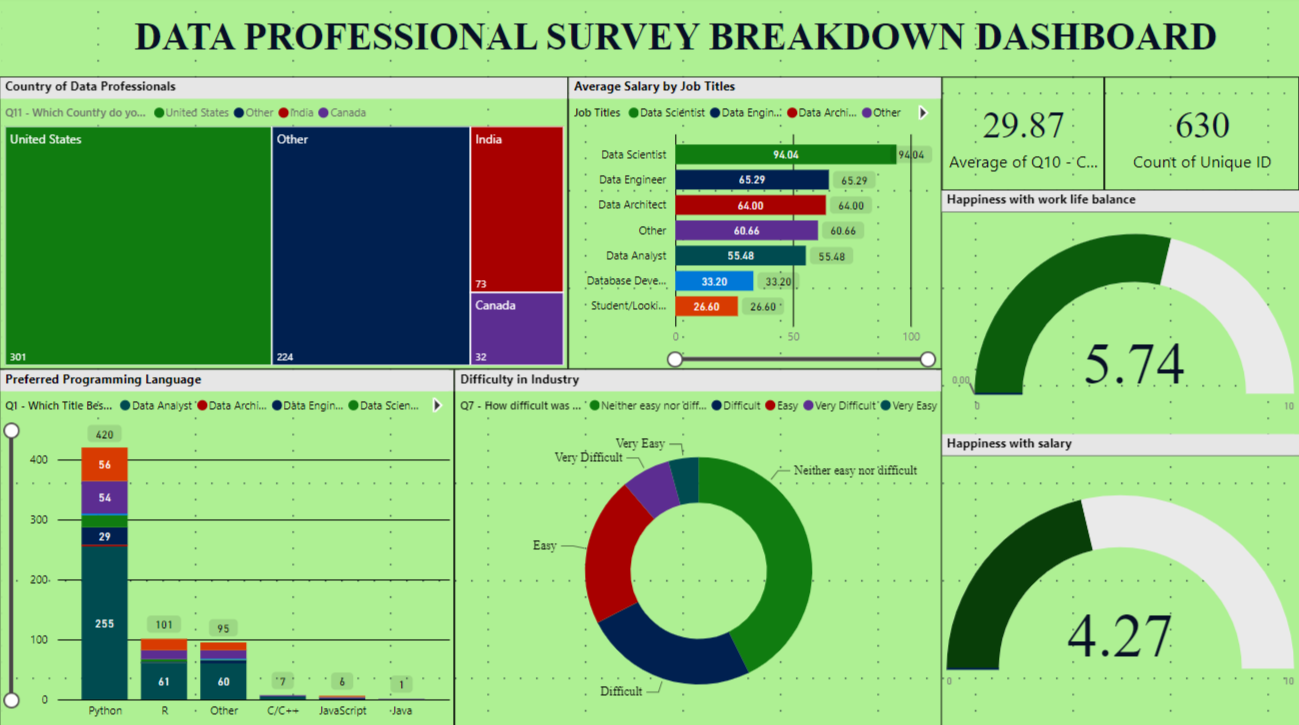

What the dashboard file says about the page in this screenshot:
{"tool":"powerbi","page":{"name":"Page 1","canvas":[1280,720],"ordinal":0},"visuals":[{"type":"textbox","box":[0,0,1280,80],"z":0},{"type":"card","fields":{"Values":["CountNonNull(Data Professional Survey.Unique ID)"]},"box":[1088,80,192,112],"z":1000},{"type":"card","fields":{"Values":["Avg(Data Professional Survey.Q10 - Current Age)"]},"box":[928,80,160,112],"z":2000},{"type":"barChart","title":" Average Salary by Job Titles","fields":{"Category":["Data Professional Survey.Q1 - Which Title Best Fits your Current Role?.1"],"Y":["Avg(Data Professional Survey.Average Salary)"],"Series":["Data Professional Survey.Q1 - Which Title Best Fits your Current Role?.1"]},"box":[560,80,368,288],"z":3000},{"type":"columnChart","title":"Preferred Programming Language","fields":{"Category":["Data Professional Survey.Q5 - Favorite Programming Language.1"],"Y":["CountNonNull(Data Professional Survey.Unique ID)"],"Series":["Data Professional Survey.Q1 - Which Title Best Fits your Current Role?.1"]},"box":[0,368,448,352],"z":4000},{"type":"treemap","title":"Country of Data Professionals","fields":{"Group":["Data Professional Survey.Q11 - Which Country do you live in?.1"],"Values":["CountNonNull(Data Professional Survey.Q11 - Which Country do you live in?.1)"]},"box":[0,80,560,288],"z":5000},{"type":"gauge","title":"Happiness with work life balance","fields":{"Y":["Avg(Data Professional Survey.Q6 - How Happy are you in your Current Position with the following? (Work/Life Balance))"],"MinValue":["Min(Data Professional Survey.Q6 - How Happy are you in your Current Position with the following? (Work/Life Balance))"],"MaxValue":["Max(Data Professional Survey.Q6 - How Happy are you in your Current Position with the following? (Work/Life Balance))"]},"box":[928,192,352,240],"z":6000},{"type":"gauge","title":"Happiness with salary","fields":{"Y":["Avg(Data Professional Survey.Q6 - How Happy are you in your Current Position with the following? (Salary))"],"MinValue":["Min(Data Professional Survey.Q6 - How Happy are you in your Current Position with the following? (Salary))"],"MaxValue":["Max(Data Professional Survey.Q6 - How Happy are you in your Current Position with the following? (Salary))"]},"box":[928,432,352,288],"z":7000},{"type":"donutChart","title":"Difficulty in Industry","fields":{"Category":["Data Professional Survey.Q7 - How difficult was it for you to break into Data?"],"Y":["CountNonNull(Data Professional Survey.Q1 - Which Title Best Fits your Current Role?.1)"]},"box":[448,368,480,352],"z":8000}]}

Visuals, with their boxes in screenshot pixels (x1, y1, x2, y2), scaled from the page's 1280x720 canvas onto the 1299x725 screenshot:
textbox: 0/0/1298/81
card - CountNonNull(Data Professional Survey.Unique ID): 1104/81/1298/193
card - Avg(Data Professional Survey.Q10 - Current Age): 942/81/1104/193
" Average Salary by Job Titles" barChart: 568/81/942/371
"Preferred Programming Language" columnChart: 0/371/455/724
"Country of Data Professionals" treemap: 0/81/568/371
"Happiness with work life balance" gauge: 942/193/1298/435
"Happiness with salary" gauge: 942/435/1298/724
"Difficulty in Industry" donutChart: 455/371/942/724
